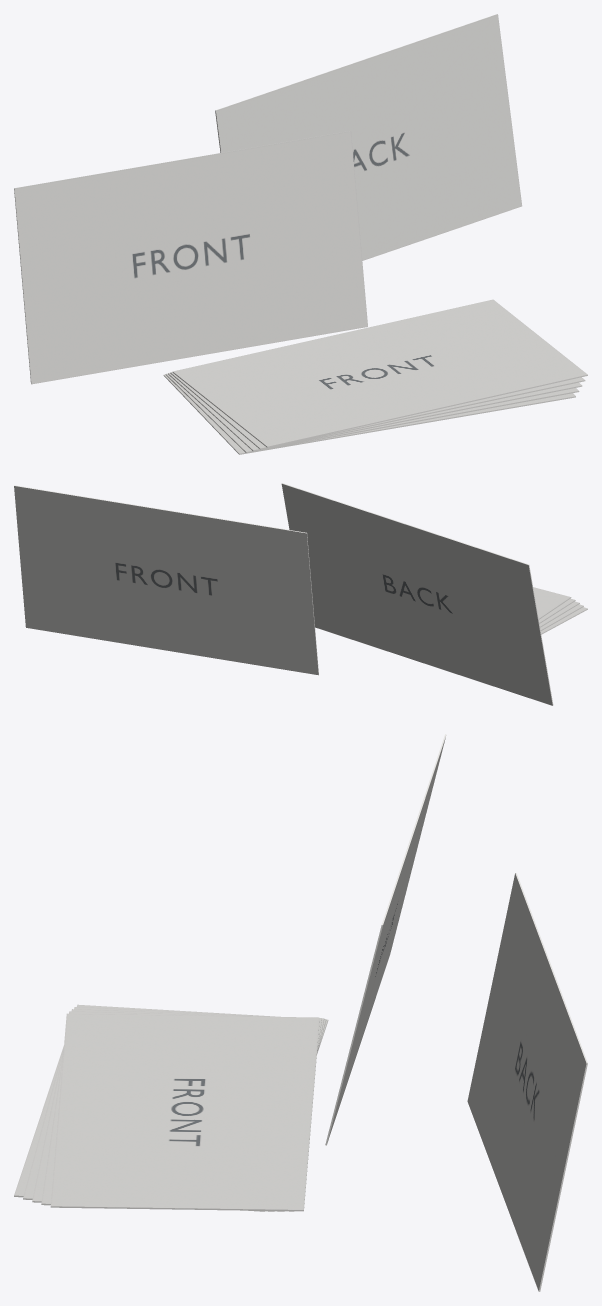
The model's file is card.glb.
3 views of the same model, one above another, from view 1: azimuth 30°, elevation 25°; view 2: azimuth 150°, elevation 25°; view 3: azimuth 270°, elevation 25° (orthographic). The views are drawn at different scales.
Parts seen in each view (by area): view 1: standing_front, standing_back, stack_05, stack_01, stack_02, stack_03, stack_04; view 2: standing_back, standing_front, stack_05; view 3: stack_05, standing_back, standing_front, stack_04, stack_02, stack_03, stack_01.
Boxes of the visible parts, left/top/right/bottom form: standing_front: left=14, top=131, right=367, bottom=384; standing_back: left=215, top=14, right=522, bottom=260; stack_05: left=172, top=299, right=587, bottom=447; stack_01: left=163, top=374, right=575, bottom=454; stack_02: left=165, top=373, right=579, bottom=453; stack_03: left=168, top=373, right=582, bottom=451; stack_04: left=170, top=372, right=585, bottom=449; standing_back: left=14, top=485, right=318, bottom=675; standing_front: left=281, top=483, right=553, bottom=705; stack_05: left=533, top=587, right=571, bottom=619; stack_05: left=50, top=1013, right=319, bottom=1211; standing_back: left=467, top=873, right=587, bottom=1291; standing_front: left=325, top=734, right=446, bottom=1145; stack_04: left=41, top=1011, right=321, bottom=1211; stack_02: left=23, top=1007, right=326, bottom=1211; stack_03: left=32, top=1009, right=324, bottom=1211; stack_01: left=14, top=1004, right=328, bottom=1211.
Size of the model in its own units: 0.1576 by 0.0491 by 0.1133.
Materials: 3 (2 with a texture image).
